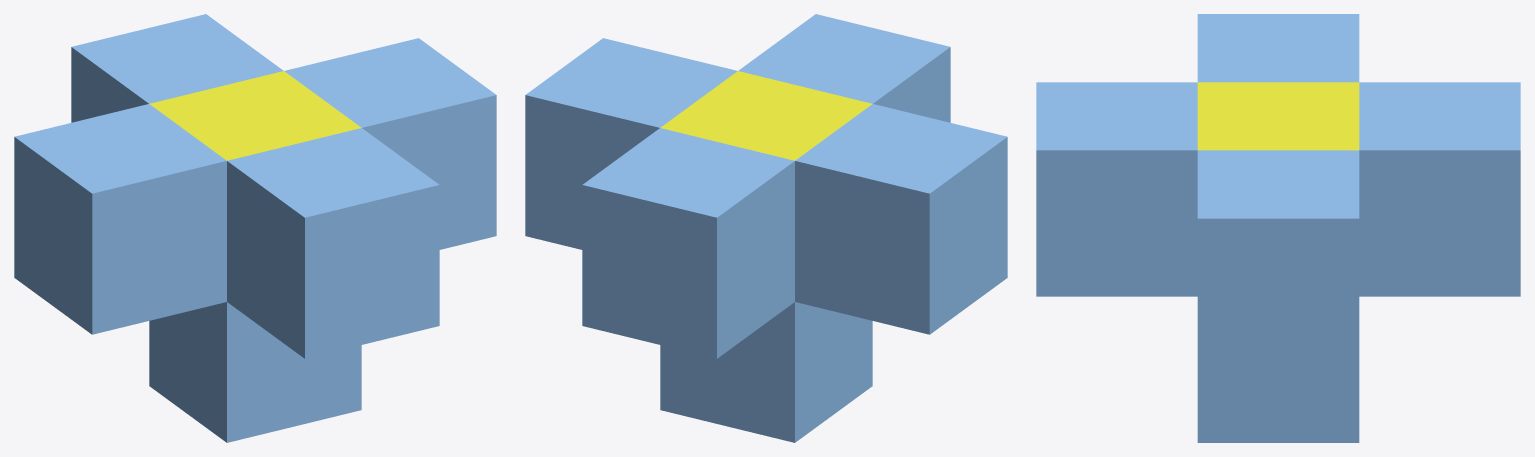
Rendered from cvetochek03.obj.
3 views of the same model, side by side, from view 1: azimuth 30°, elevation 25°; view 2: azimuth 150°, elevation 25°; view 3: azimuth 270°, elevation 25° (orthographic). The views are drawn at different scales.
Bounding box in the file's own units: 0.3 × 0.2 × 0.3.
1 material, 1 textured.
